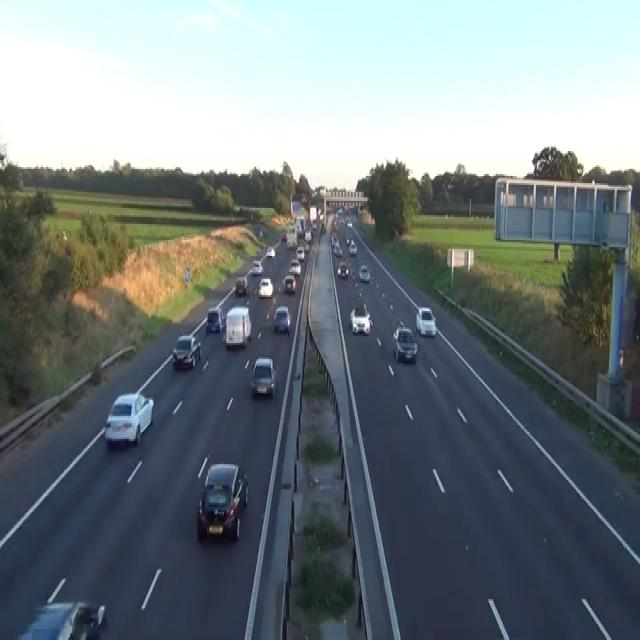Car: (197, 462, 249, 540), (16, 599, 105, 638), (104, 391, 154, 446), (171, 332, 201, 370), (250, 356, 277, 398), (392, 325, 417, 363), (350, 302, 372, 334), (415, 306, 436, 336), (273, 304, 291, 332), (206, 306, 225, 332), (257, 277, 273, 297), (235, 276, 248, 295), (283, 274, 296, 293), (288, 258, 301, 276), (358, 263, 370, 281), (337, 260, 349, 278), (251, 260, 263, 274), (56, 229, 67, 242), (265, 245, 275, 258), (296, 246, 304, 262), (348, 240, 357, 254), (333, 244, 342, 256), (304, 229, 312, 242), (331, 231, 338, 245), (346, 218, 352, 228), (301, 194, 307, 204), (297, 228, 303, 238), (62, 229, 67, 240), (281, 233, 287, 242), (311, 222, 317, 230), (304, 244, 309, 252), (346, 236, 350, 244), (259, 228, 263, 236), (340, 215, 344, 222)
Truck: (224, 304, 251, 348), (286, 226, 297, 249), (294, 215, 305, 237)
